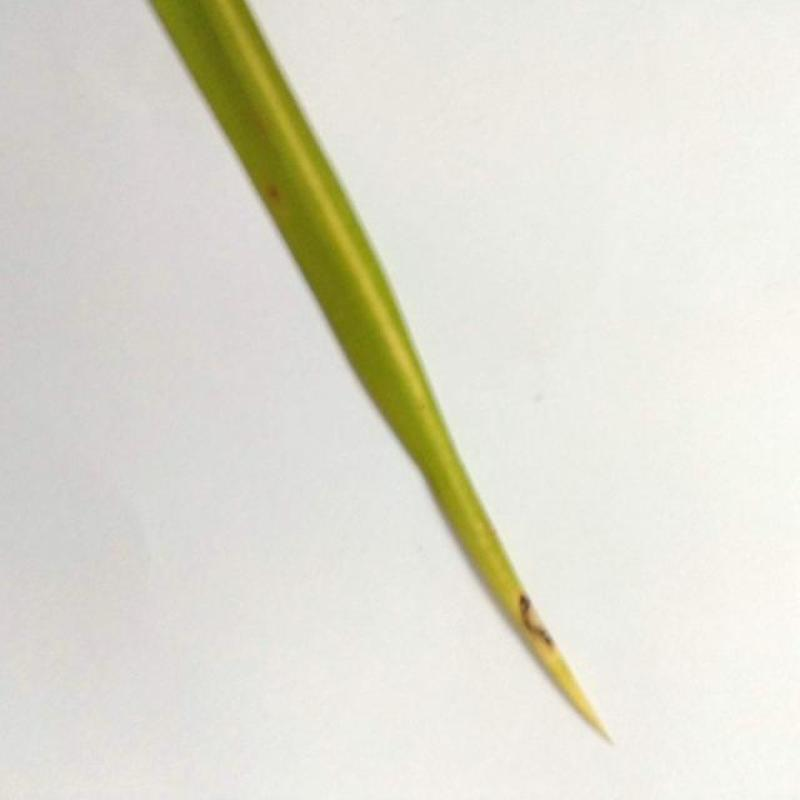Leaf_Blast: (470, 514, 629, 702)
